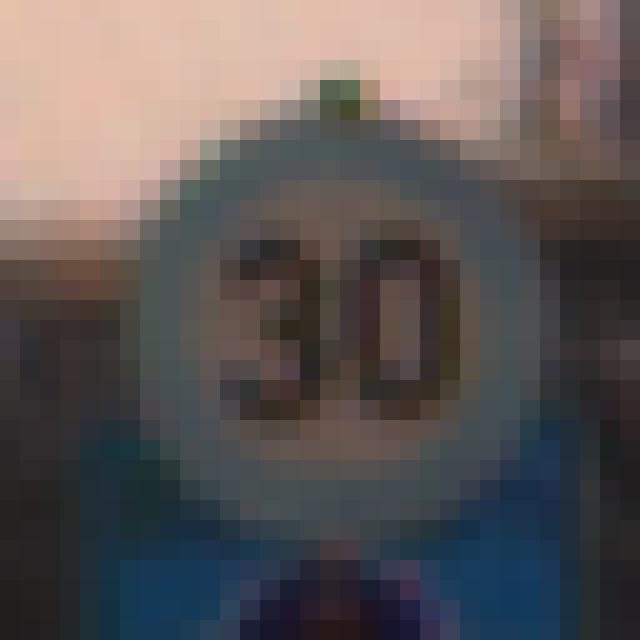SPEED LIMIT 30: (178, 194, 520, 526)
